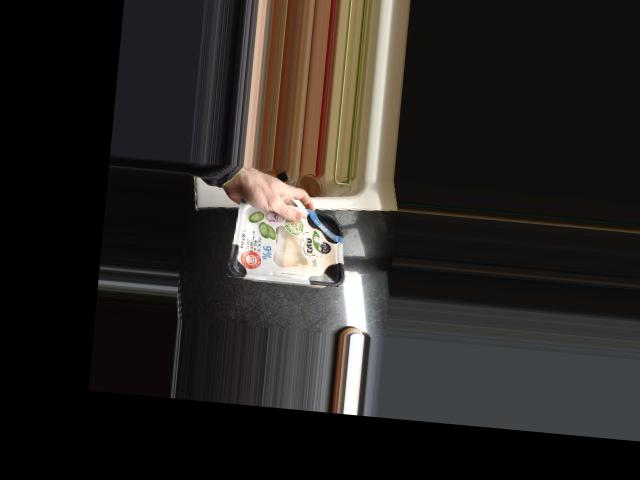cheese: (228, 192, 348, 287)
